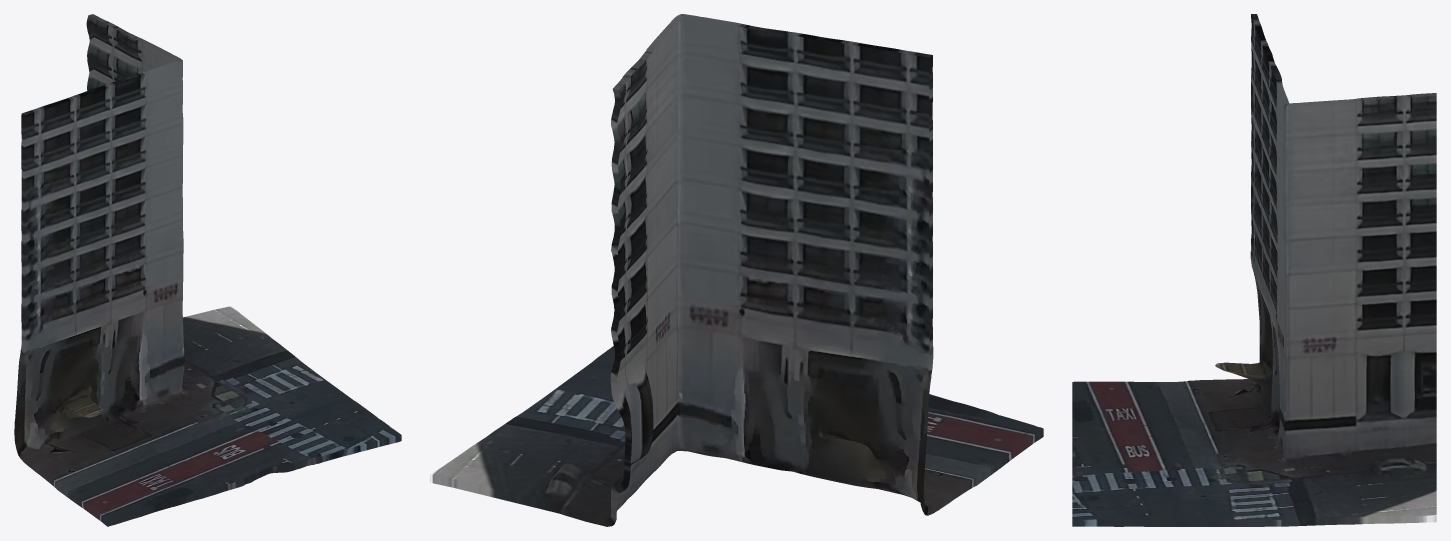
File: z20-167751-405243-h0-yup-uvflip-v3-world.glb
3 renders of one model, left to right at view 1: azimuth 30°, elevation 25°; view 2: azimuth 150°, elevation 25°; view 3: azimuth 270°, elevation 25°, orthographic. The views are drawn at different scales.
Size of the model in its own units: 30.16 by 34.36 by 30.32.
1 material, 1 textured.
